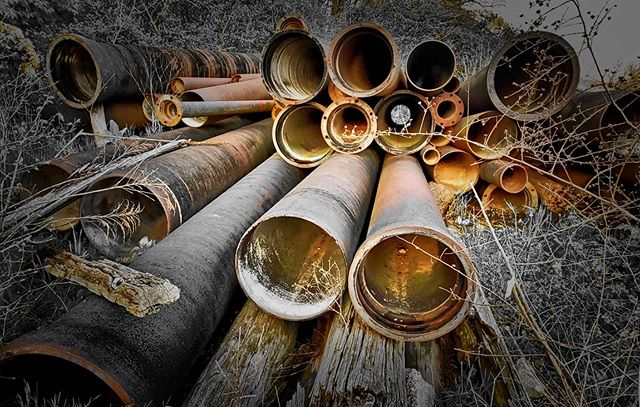trash: (9, 1, 628, 401)
